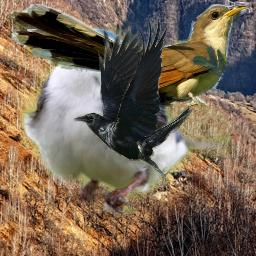Crow: (73, 16, 193, 188)
Cuckoo: (10, 4, 249, 110)
Swallow: (20, 27, 234, 214)
